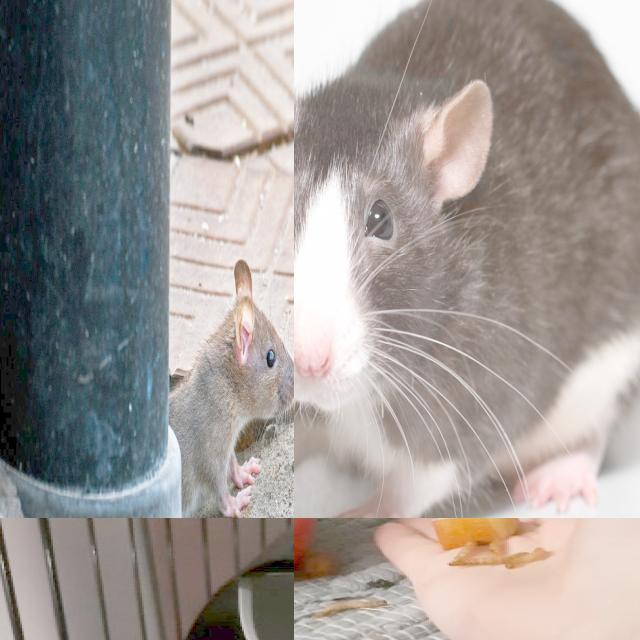rat: (294, 0, 640, 518), (168, 252, 294, 518)
